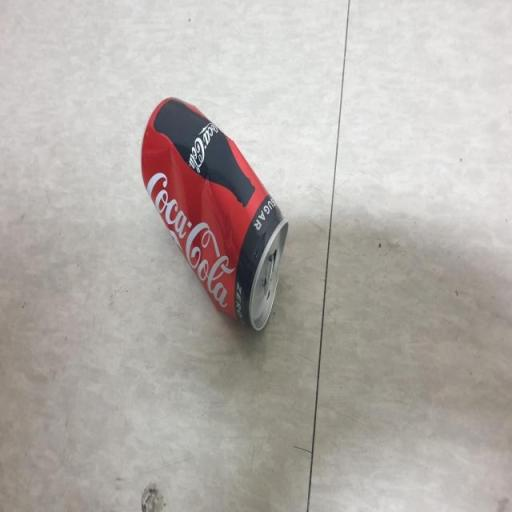metal: (132, 77, 303, 381)
